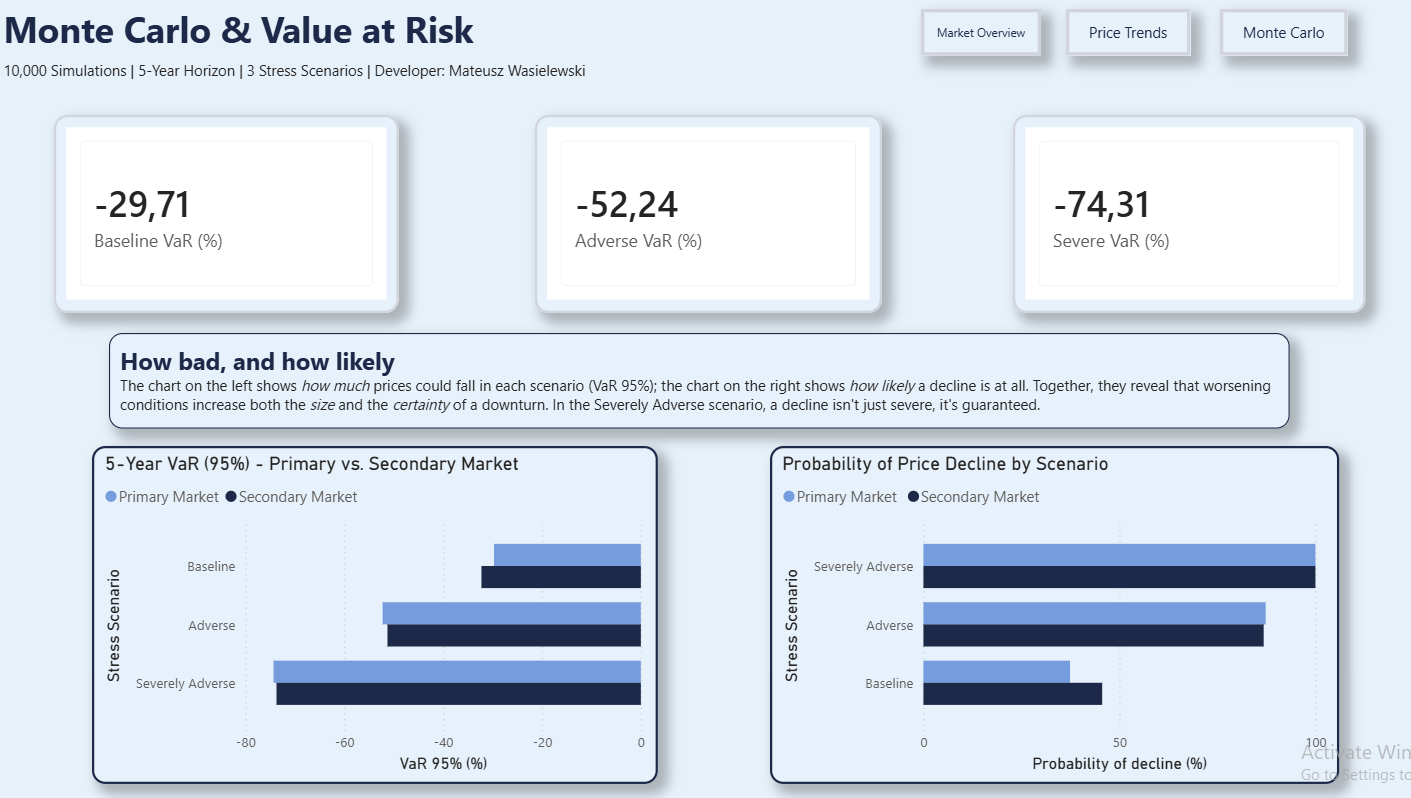

The page's visual inventory and layout, read from the dashboard file:
{"tool":"powerbi","page":{"name":"Monte Carlo","canvas":[1280,720],"ordinal":2},"visuals":[{"type":"textbox","box":[0,0,504.8,58.4],"z":0},{"type":"textbox","box":[0,50.6,720.7,32.1],"z":1000},{"type":"cardVisual","fields":{"Data":["Monte Carlo.Baseline VaR"]},"box":[50.6,104.1,310.3,178],"z":2000},{"type":"cardVisual","fields":{"Data":["Monte Carlo.Adverse VaR"]},"box":[483.4,104.1,312.2,178],"z":3000},{"type":"cardVisual","fields":{"Data":["Monte Carlo.Severe VaR"]},"box":[913.3,104.1,317.1,178],"z":4000},{"type":"clusteredBarChart","title":"5-Year VaR (95%) - Primary vs. Secondary Market","fields":{"Category":["Monte Carlo.Scenario"],"Y":["Sum(Monte Carlo.Primary_VaR95)","Sum(Monte Carlo.Secondary_VaR95)"]},"box":[84.6,401.7,508.7,304.4],"z":5000},{"type":"clusteredBarChart","title":"Probability of Price Decline by Scenario","fields":{"Category":["Monte Carlo.Scenario"],"Y":["Sum(Monte Carlo.Primary_Prob_Decline)","Sum(Monte Carlo.Secondary_Prob_Decline)"]},"box":[694.5,401.7,511.6,304.4],"z":6000},{"type":"textbox","box":[100.2,300.5,1062.1,85.6],"z":6001},{"type":"actionButton","box":[830.6,8.8,108,41.8],"z":6002},{"type":"actionButton","box":[961,8.8,111.9,41.8],"z":6003},{"type":"actionButton","box":[1099.1,8.8,114.8,41.8],"z":6004}]}

Visuals, with their boxes in screenshot pixels (x1, y1, x2, y2), scaled from the page's 1280x720 canvas onto the 1411x798 screenshot:
textbox: rect(0, 0, 556, 65)
textbox: rect(0, 56, 794, 92)
cardVisual - Monte Carlo.Baseline VaR: rect(56, 115, 398, 313)
cardVisual - Monte Carlo.Adverse VaR: rect(533, 115, 877, 313)
cardVisual - Monte Carlo.Severe VaR: rect(1007, 115, 1356, 313)
"5-Year VaR (95%) - Primary vs. Secondary Market" clusteredBarChart: rect(93, 445, 654, 783)
"Probability of Price Decline by Scenario" clusteredBarChart: rect(766, 445, 1330, 783)
textbox: rect(110, 333, 1281, 428)
actionButton: rect(916, 10, 1035, 56)
actionButton: rect(1059, 10, 1183, 56)
actionButton: rect(1212, 10, 1338, 56)
